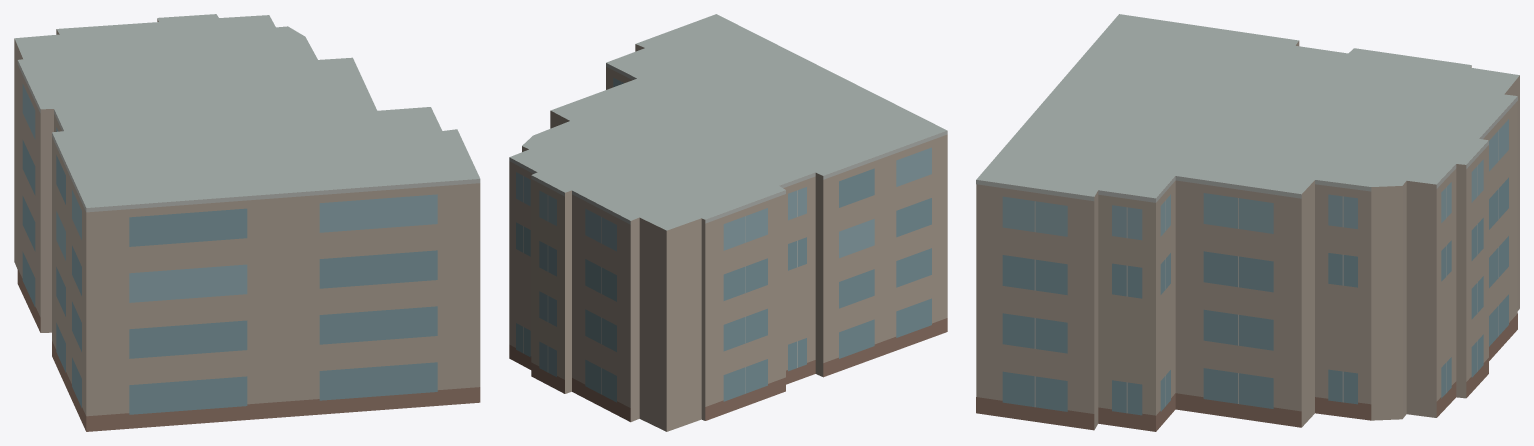
Rendered from survey-upis-32629574.glb.
3 views of the same model, side by side, from view 1: azimuth 30°, elevation 25°; view 2: azimuth 150°, elevation 25°; view 3: azimuth 270°, elevation 25° (orthographic). The views are drawn at different scales.
Parts seen in each view (by area): view 1: survey-upis-32629574.tmp; view 2: survey-upis-32629574.tmp; view 3: survey-upis-32629574.tmp.
Boxes of the visible parts, box(x1,y1,x2,y2) form: survey-upis-32629574.tmp: box(14, 14, 480, 431); survey-upis-32629574.tmp: box(509, 14, 947, 431); survey-upis-32629574.tmp: box(976, 14, 1519, 431).
Bounding box in the file's own units: 21.61 × 12.75 × 26.91.
